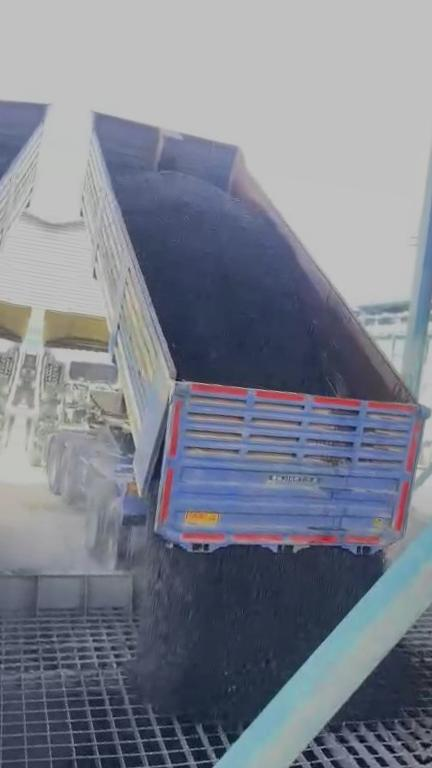gravel: (117, 172, 357, 393), (126, 539, 383, 726), (338, 646, 420, 720)
